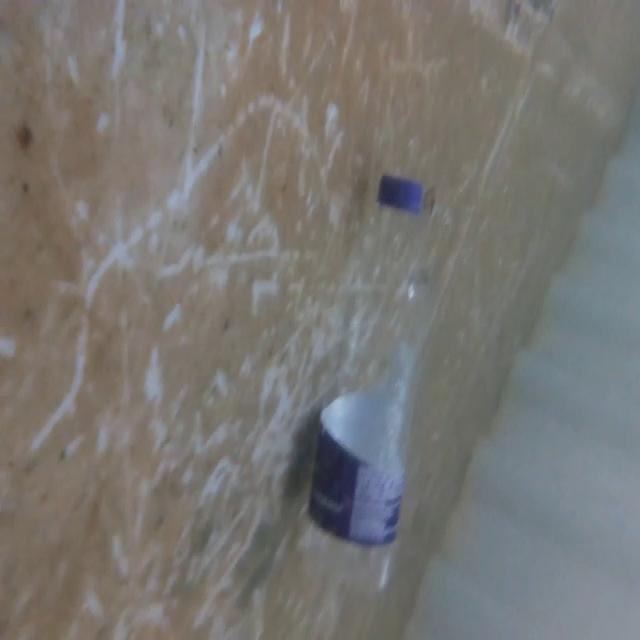plastic bottle: (304, 170, 437, 582)
